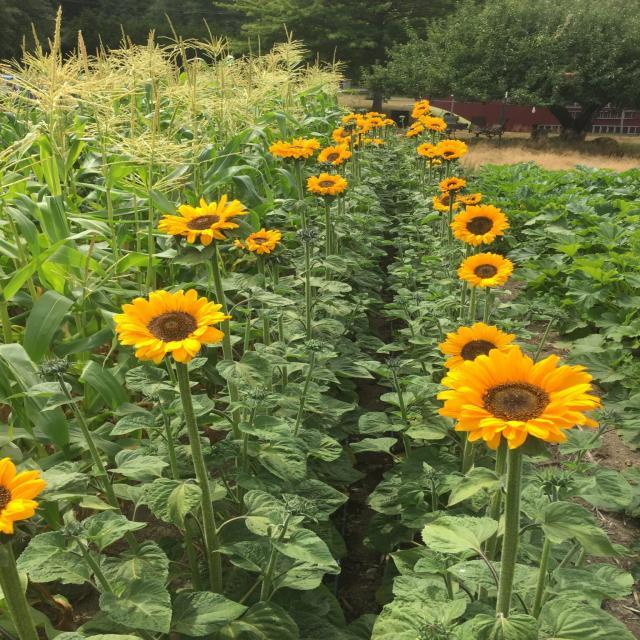sunflower: (436, 346, 602, 450), (112, 288, 231, 364), (156, 194, 250, 246), (438, 322, 518, 371), (0, 457, 47, 534), (448, 204, 509, 246), (456, 252, 514, 290), (232, 228, 282, 254), (268, 136, 320, 158), (306, 172, 348, 196), (316, 144, 352, 164), (436, 139, 468, 157), (432, 192, 460, 212), (330, 126, 356, 144), (438, 144, 466, 160), (438, 176, 466, 192), (424, 117, 447, 132), (341, 112, 364, 126), (456, 193, 482, 204), (352, 119, 370, 134), (416, 142, 436, 155), (366, 116, 384, 130), (405, 126, 425, 137), (362, 138, 386, 146), (426, 158, 441, 169), (366, 110, 386, 118), (414, 99, 431, 108), (354, 134, 366, 146), (413, 104, 431, 112), (416, 115, 432, 124), (424, 148, 438, 158), (412, 110, 424, 118), (360, 114, 372, 120), (384, 119, 394, 126), (411, 121, 421, 128)
